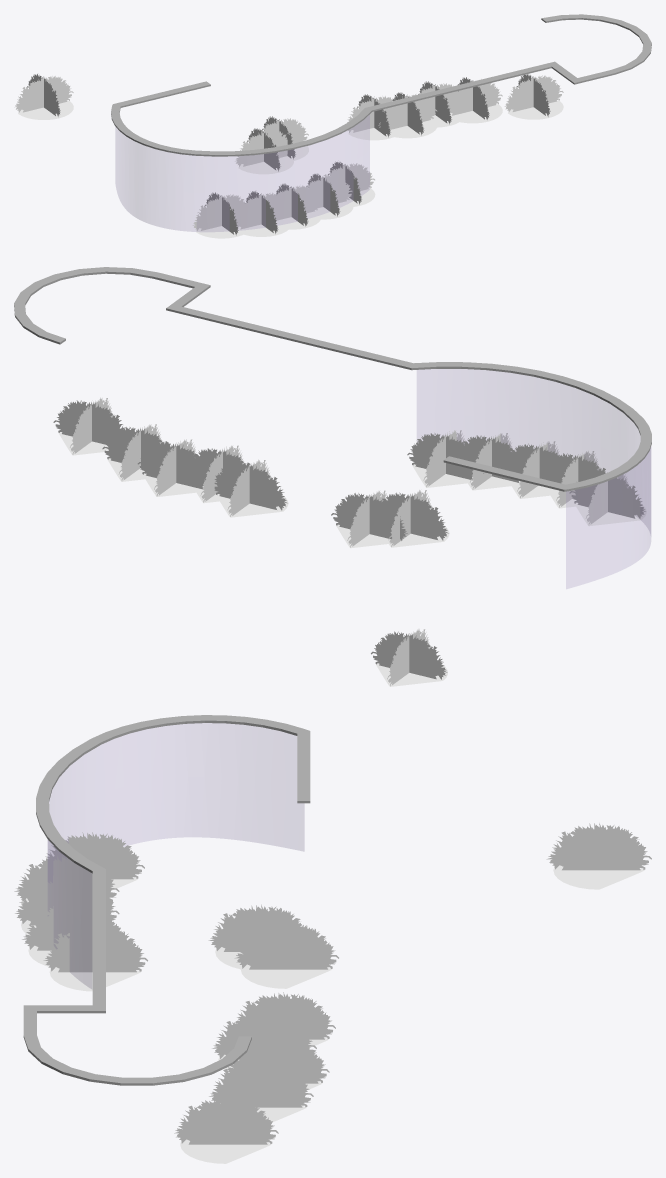
The model's file is model-part.gltf_undefined_F3.gltf.
3 views of the same model, one above another, from view 1: azimuth 30°, elevation 25°; view 2: azimuth 150°, elevation 25°; view 3: azimuth 270°, elevation 25° (orthographic). The views are drawn at different scales.
Bounding box in the file's own units: 16.42 × 2.5 × 12.02.
